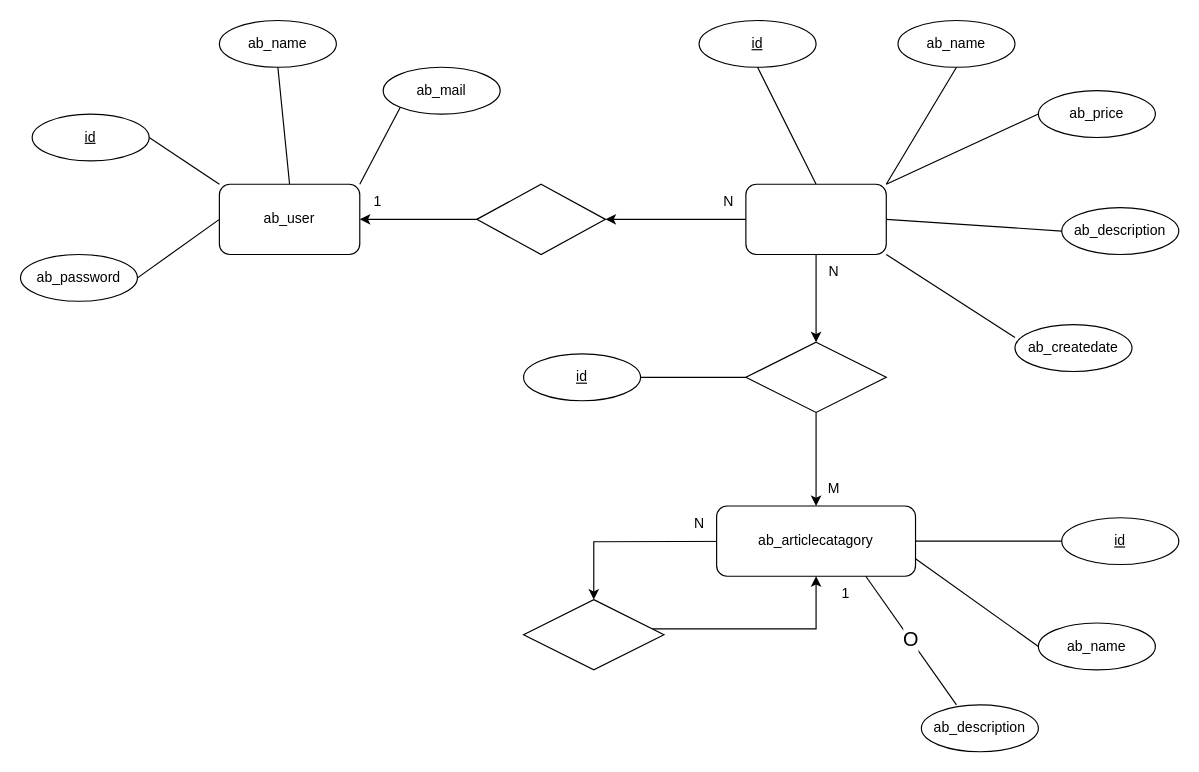
The diagram is 1199 pixels wide and 772 high, and some of its shapes have lost their labels. Each missing label, with the centre of its shape:
ab_article: (815,218)
hat: (540,218)
hat parent: (593,634)
Relationship: (815,376)
